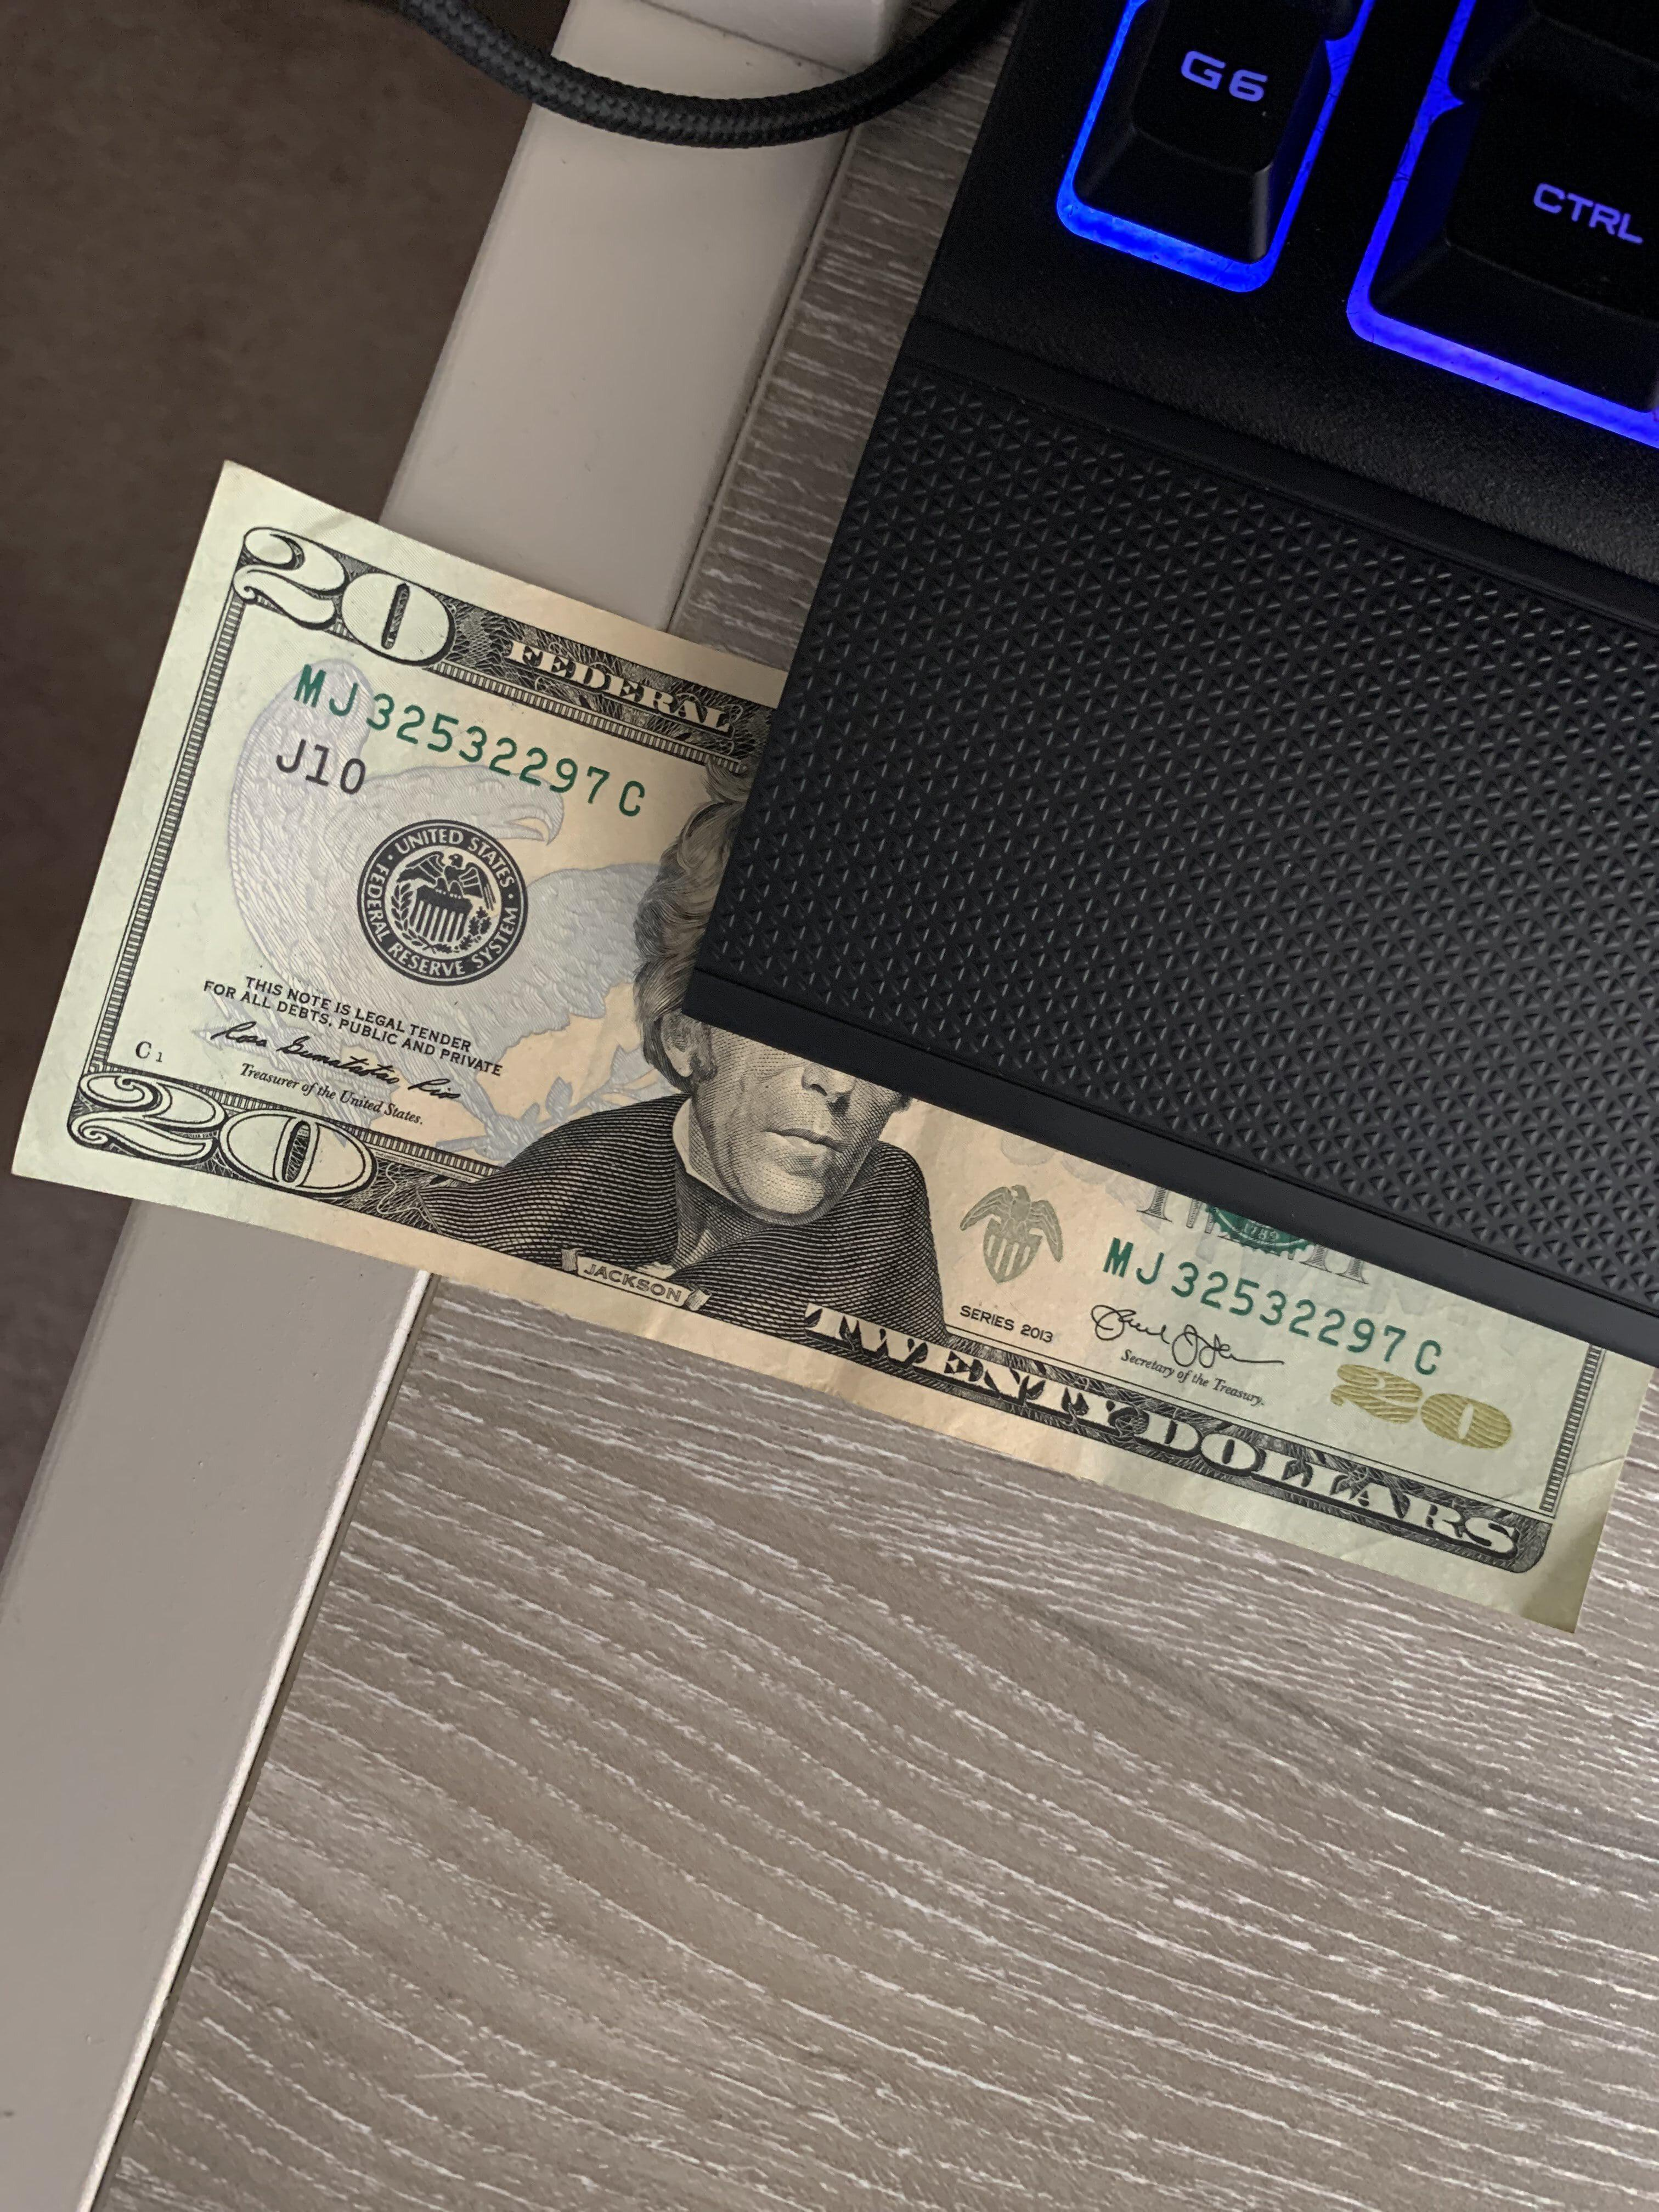TwentyBill: (2, 434, 1657, 1676)
